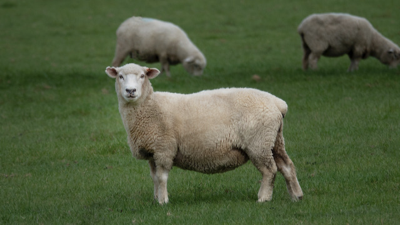koyun: (105, 71, 302, 204), (295, 9, 399, 64)
